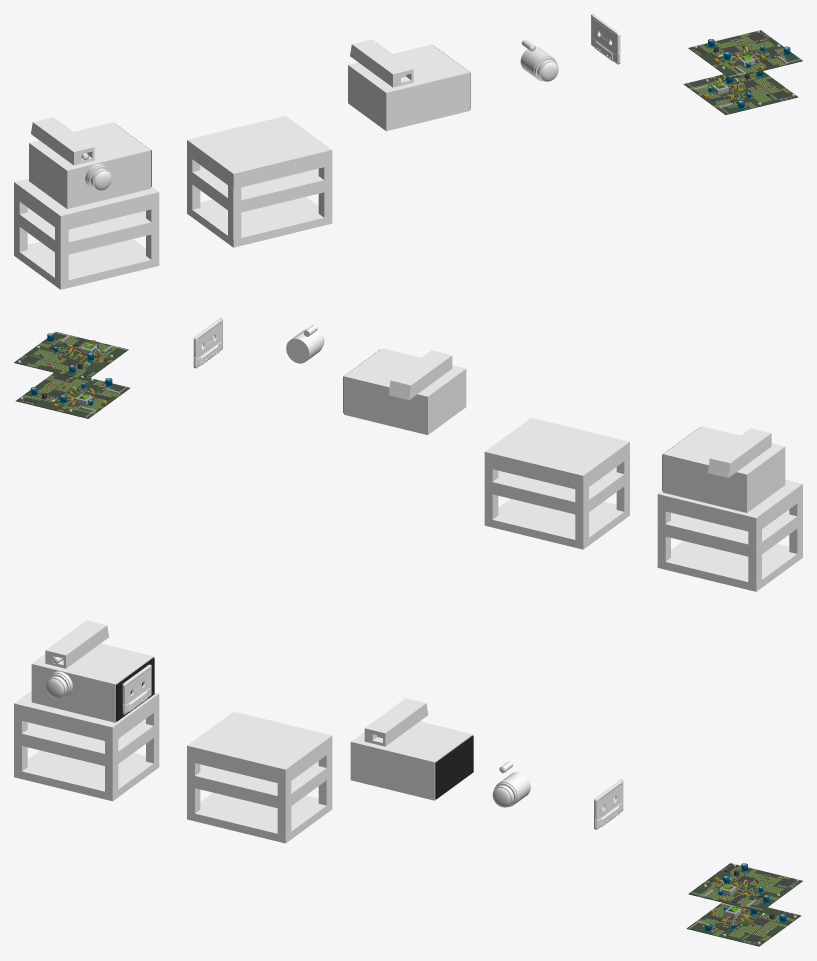
The model's file is todas.glb.
3 views of the same model, one above another, from view 1: azimuth 30°, elevation 25°; view 2: azimuth 150°, elevation 25°; view 3: azimuth 330°, elevation 25° (orthographic).
Parts seen in each view (by area): view 1: Cube.002, Cube.013, Cube.008, Cube, board.002, board.003, Cube.001, cassette tape.001, Sphere.001, Sphere; view 2: Cube.002, Cube.013, Cube.008, Cube, board.002, board.003, Cube.001, cassette tape.001, Sphere.001; view 3: Cube.002, Cube.013, Cube.008, Cube, board.002, board.003, Cube.001, cassette tape.001, cassette tape.002, Sphere.001, Cube.003.
Boxes of the visible parts, x1=… form: Cube.002: x1=187, y1=116, x2=332, y2=247; Cube.013: x1=14, y1=178, x2=159, y2=289; Cube.008: x1=348, y1=39, x2=470, y2=131; Cube: x1=29, y1=122, x2=150, y2=208; board.002: x1=688, y1=30, x2=802, y2=78; board.003: x1=683, y1=71, x2=798, y2=114; Cube.001: x1=31, y1=117, x2=94, y2=165; cassette tape.001: x1=591, y1=14, x2=620, y2=64; Sphere.001: x1=520, y1=39, x2=558, y2=81; Sphere: x1=81, y1=153, x2=111, y2=190; Cube.002: x1=484, y1=417, x2=629, y2=549; Cube.013: x1=657, y1=479, x2=802, y2=591; Cube.008: x1=343, y1=348, x2=466, y2=434; Cube: x1=663, y1=426, x2=785, y2=512; board.002: x1=14, y1=332, x2=128, y2=380; board.003: x1=16, y1=373, x2=129, y2=418; Cube.001: x1=708, y1=428, x2=771, y2=477; cassette tape.001: x1=193, y1=318, x2=222, y2=368; Sphere.001: x1=286, y1=324, x2=323, y2=363; Cube.002: x1=187, y1=711, x2=332, y2=843; Cube.013: x1=14, y1=691, x2=159, y2=801; Cube.008: x1=350, y1=698, x2=473, y2=800; Cube: x1=31, y1=643, x2=153, y2=722; board.002: x1=688, y1=863, x2=802, y2=911; board.003: x1=686, y1=902, x2=801, y2=946; Cube.001: x1=45, y1=620, x2=108, y2=668; cassette tape.001: x1=594, y1=779, x2=623, y2=829; cassette tape.002: x1=122, y1=664, x2=151, y2=714; Sphere.001: x1=493, y1=761, x2=530, y2=807; Cube.003: x1=116, y1=657, x2=154, y2=721.
Bounding box in the file's own units: 26.49 × 4.27 × 3.35.
Materials: 58 (2 with a texture image).
